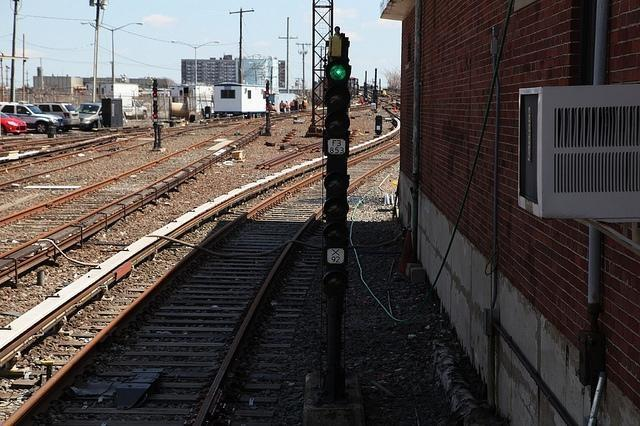car: (1, 101, 64, 134), (35, 103, 80, 125), (77, 103, 103, 128), (0, 112, 27, 134), (132, 105, 150, 120)
truck: (85, 82, 148, 120), (0, 98, 64, 134), (214, 84, 266, 119), (33, 103, 80, 131), (78, 103, 102, 132)
